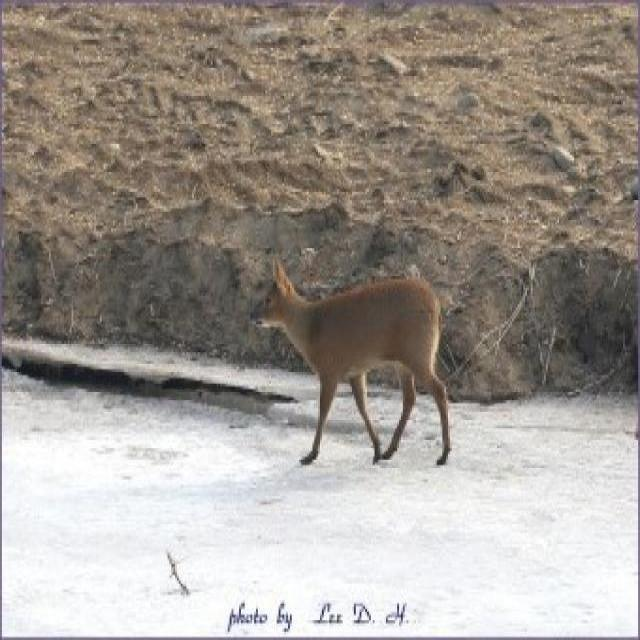deer: (242, 240, 454, 523)
